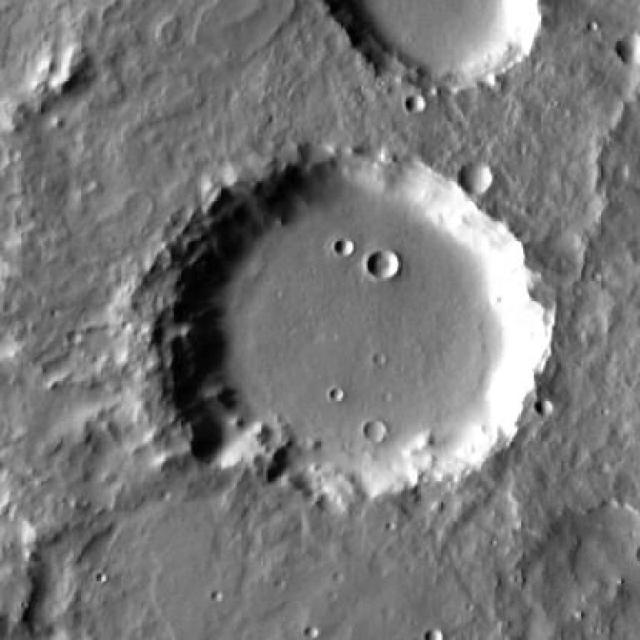crater: (172, 155, 556, 507), (330, 0, 535, 98), (460, 160, 497, 194), (368, 250, 400, 282), (365, 422, 387, 442), (404, 96, 425, 116), (336, 237, 356, 255), (536, 400, 555, 418)
